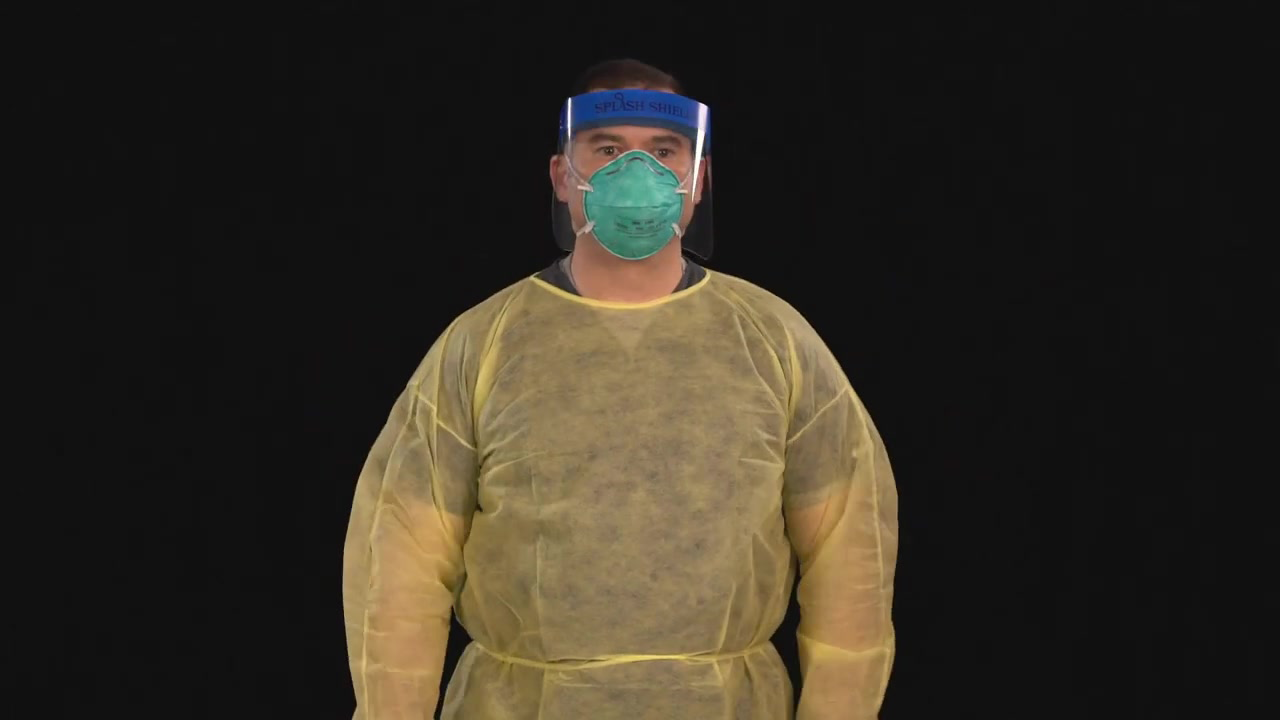Coverall: (391, 275, 881, 720)
Face_Shield: (537, 95, 720, 251)
with_mask: (580, 137, 689, 251)
